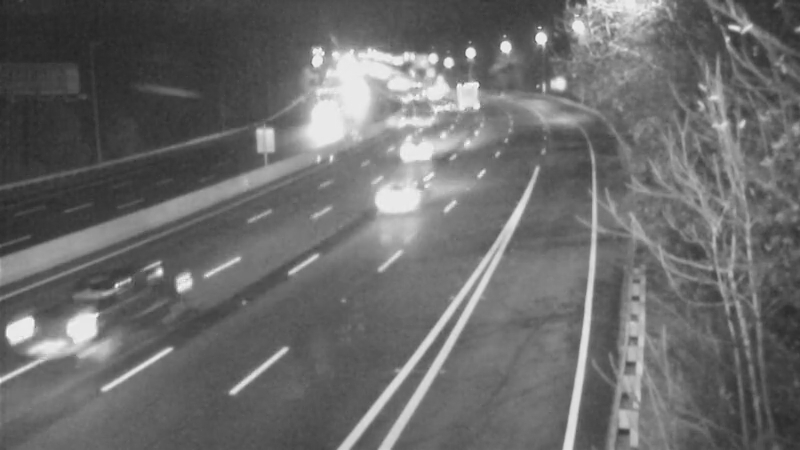vehicle: (1, 272, 111, 382), (360, 166, 440, 246), (438, 65, 488, 115), (417, 86, 467, 136), (383, 94, 433, 144), (387, 125, 437, 175), (299, 104, 349, 154)
